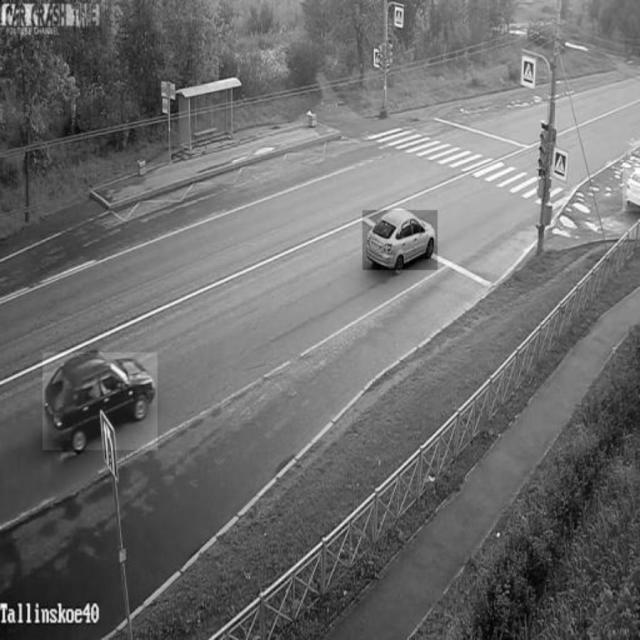vehicle: (43, 352, 157, 450), (362, 211, 436, 271), (623, 162, 640, 212)
